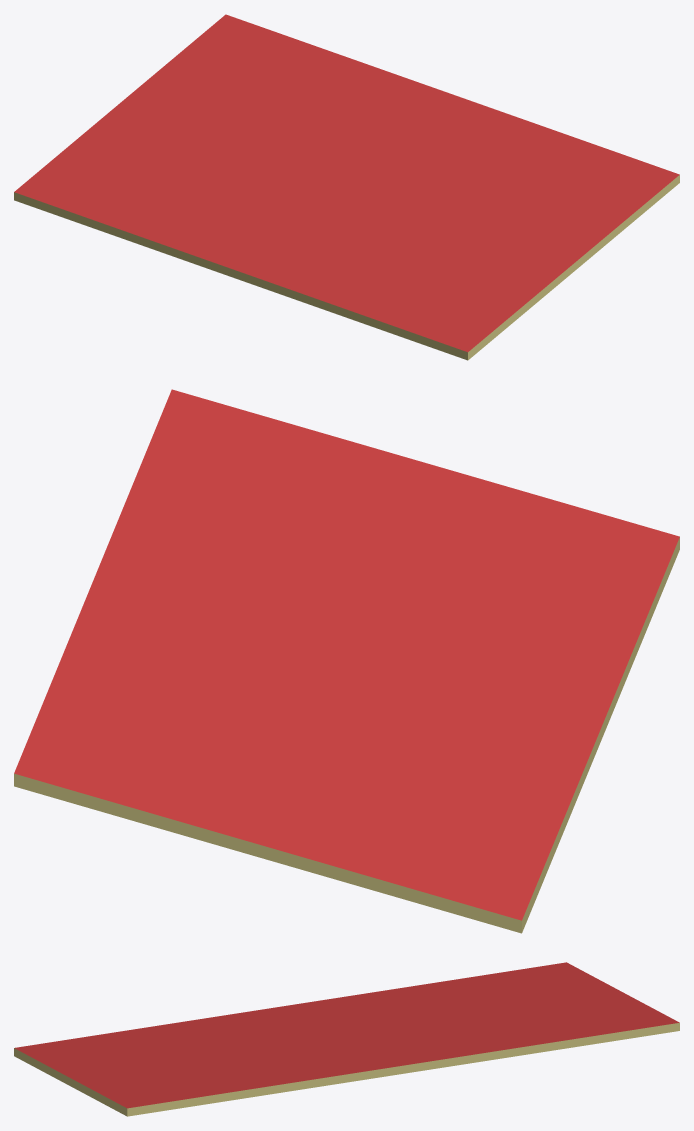
The picture shows the model from 3 angles, top to bottom: view 1: azimuth 30°, elevation 25°; view 2: azimuth 150°, elevation 25°; view 3: azimuth 270°, elevation 25°; orthographic projection. The views are drawn at different scales.
Bounding box in the file's own units: 5.65 × 7.36 × 0.955.
